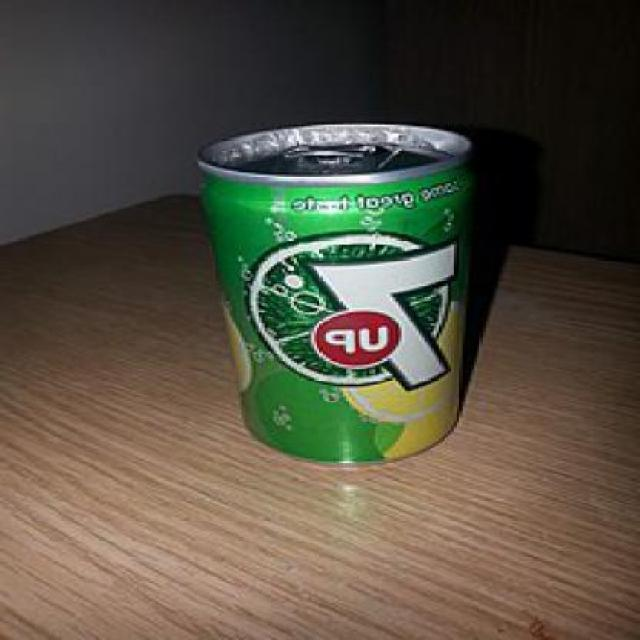can: (186, 112, 497, 480)
